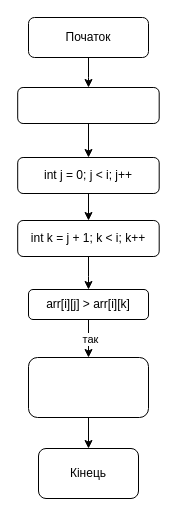
The diagram is 177 pixels wide and 516 high, and some of its shapes have lost their labels. The shapes that lost their labels are listed below. From the top down, each one's box as (x1, y1, x2, y2) in pixels, then its label:
(17, 86, 159, 124): int i = 0; i < ROWS; i++
(28, 356, 148, 418): int temp = arr[i][j]; arr[i][j] = arr[i][k]; arr[i][k] = temp;
